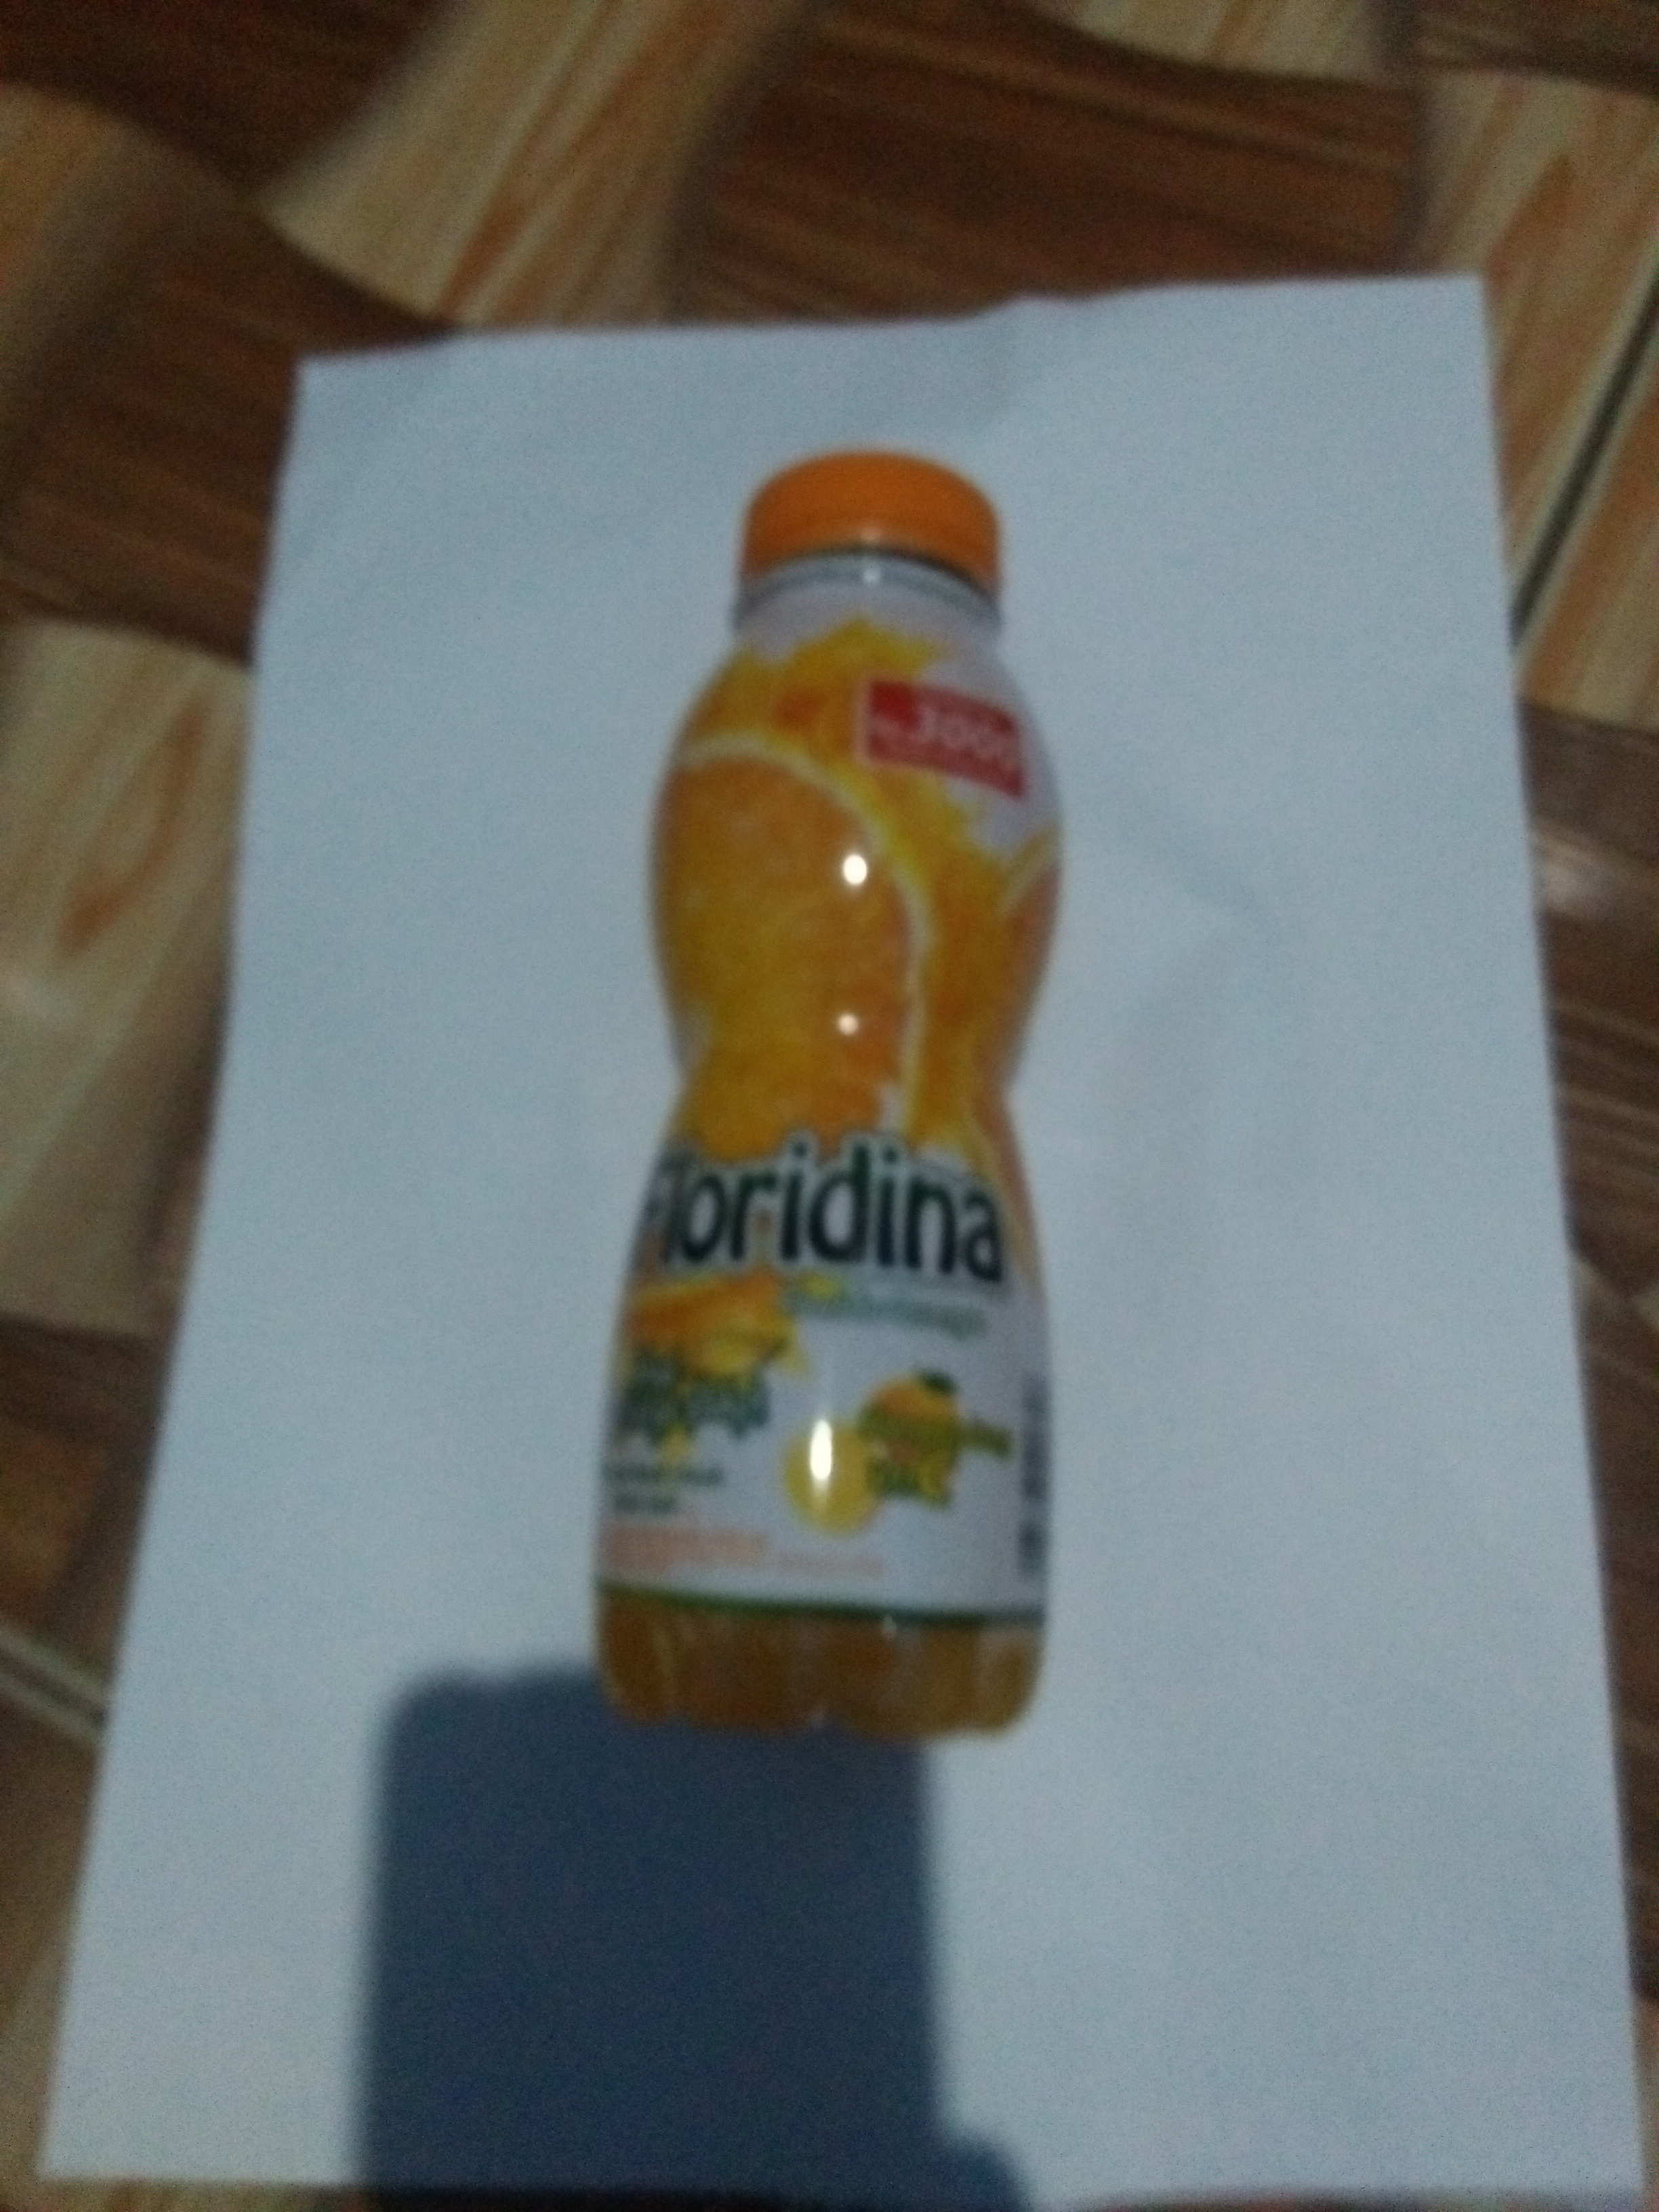Floridina: (573, 441, 1063, 1735)
